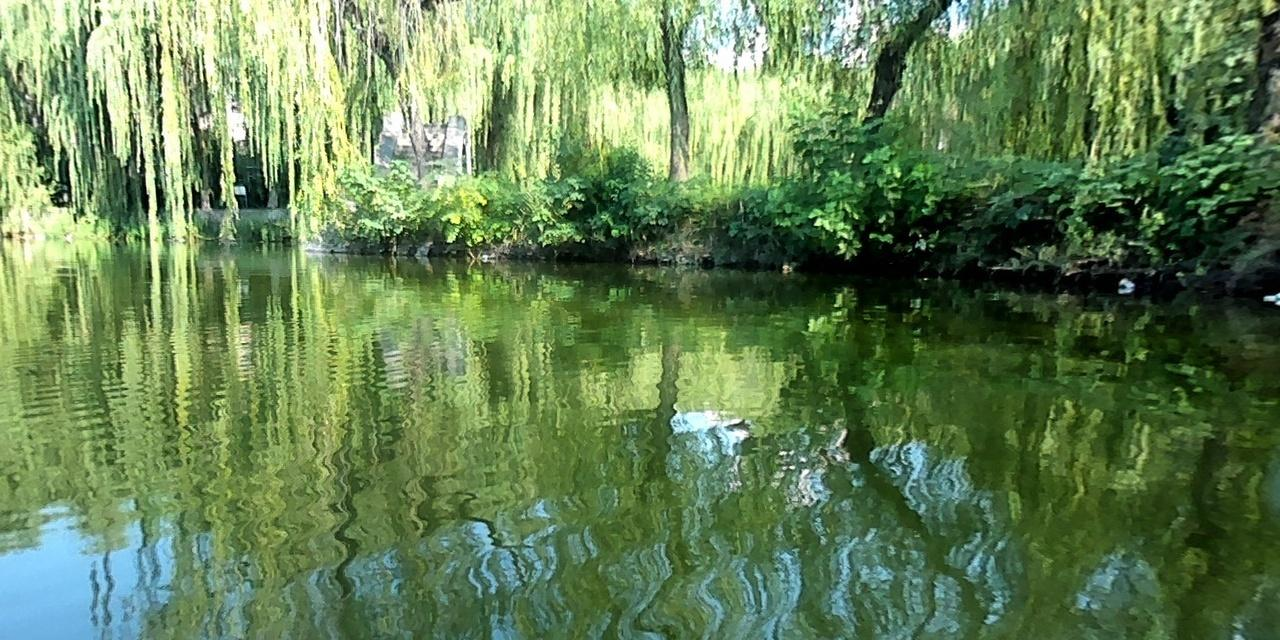bottle: (1118, 276, 1133, 287)
